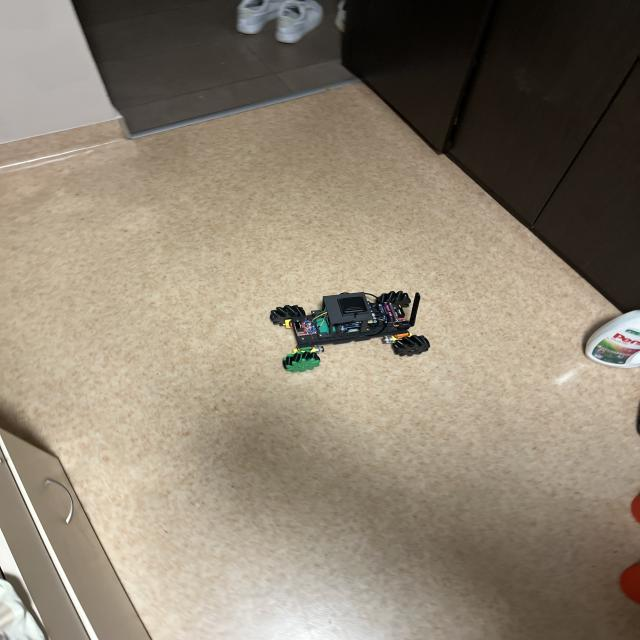robot: (269, 291, 430, 372)
